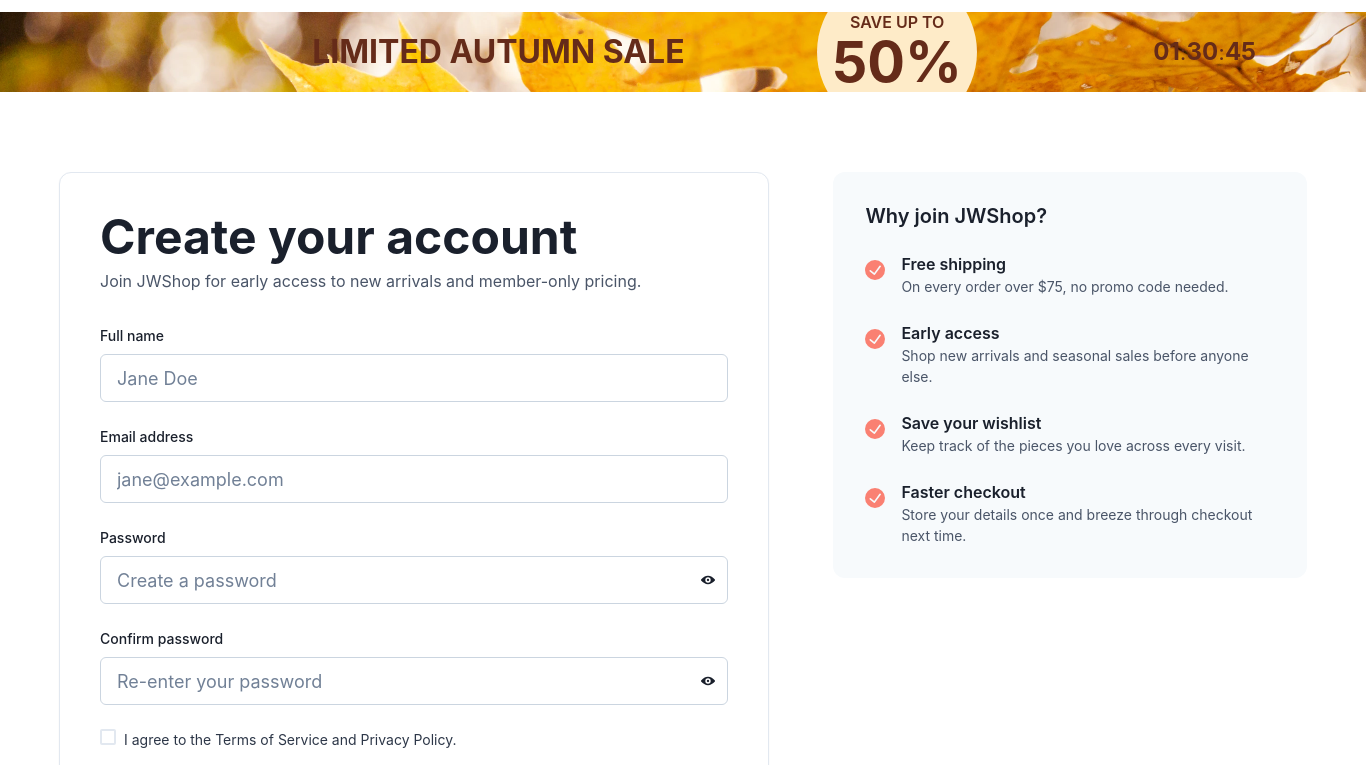
Scenario: RegisterPage component › shows the password requirements checklist once typing starts
Expected: the text "at least 8 characters" is not shown
Type "a" into the password field labelled "Password" at [414, 580], box [100, 556, 728, 604]
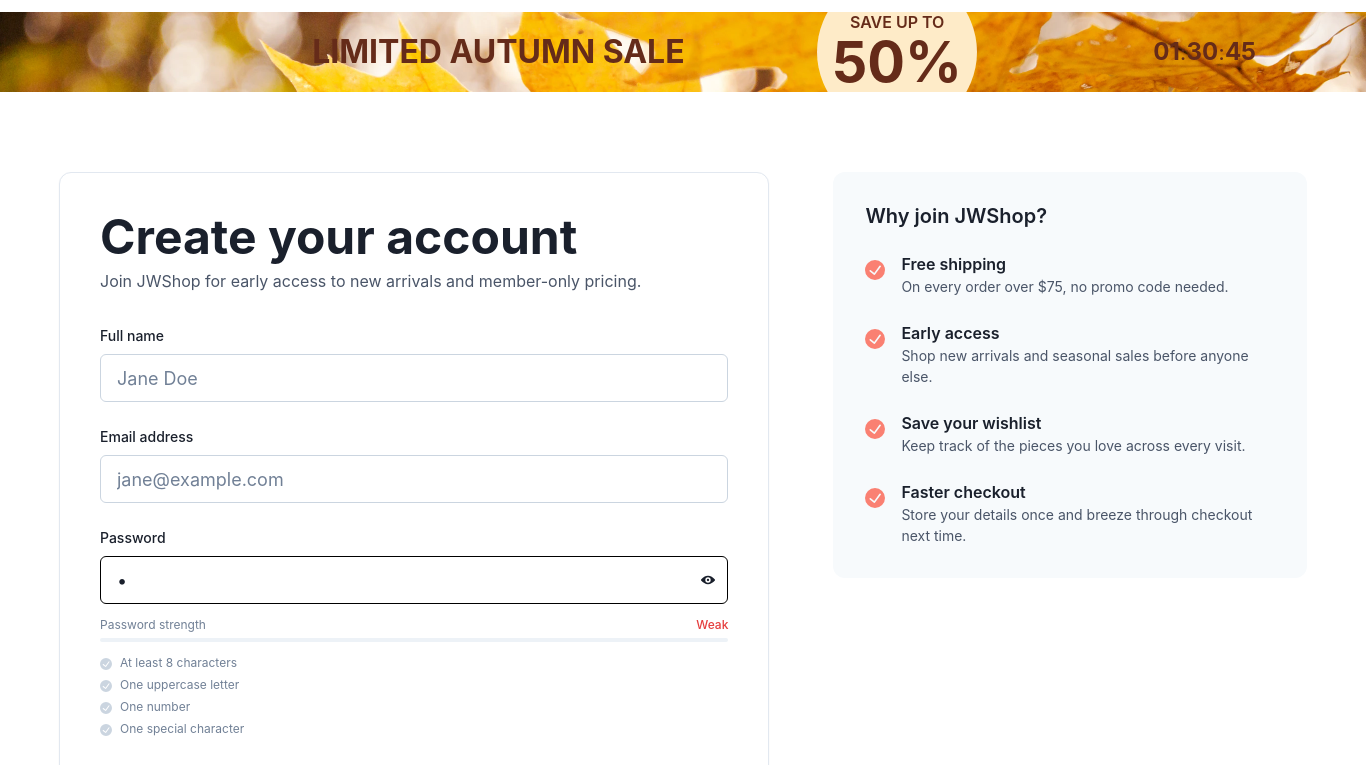
Result: the list item "At least 8 characters" is shown at [100, 655, 237, 670]
Result: the list item "One uppercase letter" is shown at [100, 677, 239, 692]
Result: the list item "One number" is shown at [100, 699, 190, 714]
